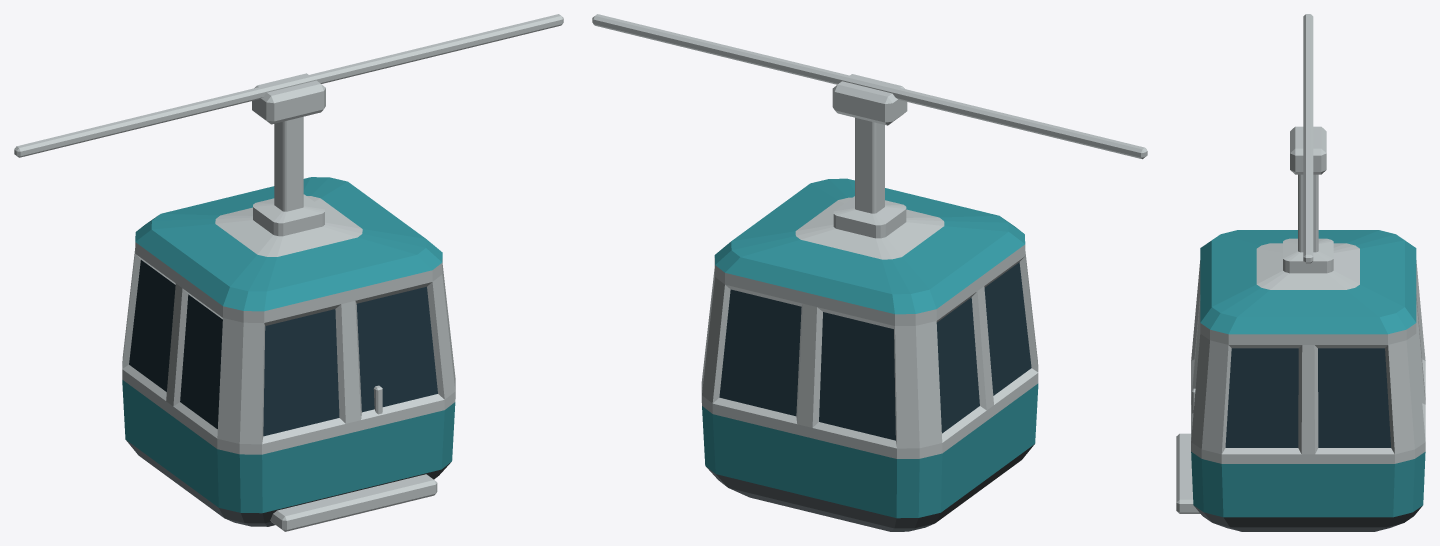
File: NEW_RECOVERY_114_LOD2.glb
3 renders of one model, left to right at view 1: azimuth 30°, elevation 25°; view 2: azimuth 150°, elevation 25°; view 3: azimuth 270°, elevation 25°, orthographic. The views are drawn at different scales.
Visible parts, largest first — view 1: Cable car cabin with continuous roof hanger; view 2: Cable car cabin with continuous roof hanger; view 3: Cable car cabin with continuous roof hanger.
Boxes of the visible parts, x1,y1,x2,y2 form: Cable car cabin with continuous roof hanger: (14,14,563,531); Cable car cabin with continuous roof hanger: (592,14,1147,531); Cable car cabin with continuous roof hanger: (1176,14,1425,531).
Bounding box in the file's own units: 4.4 × 3.1 × 1.91.
